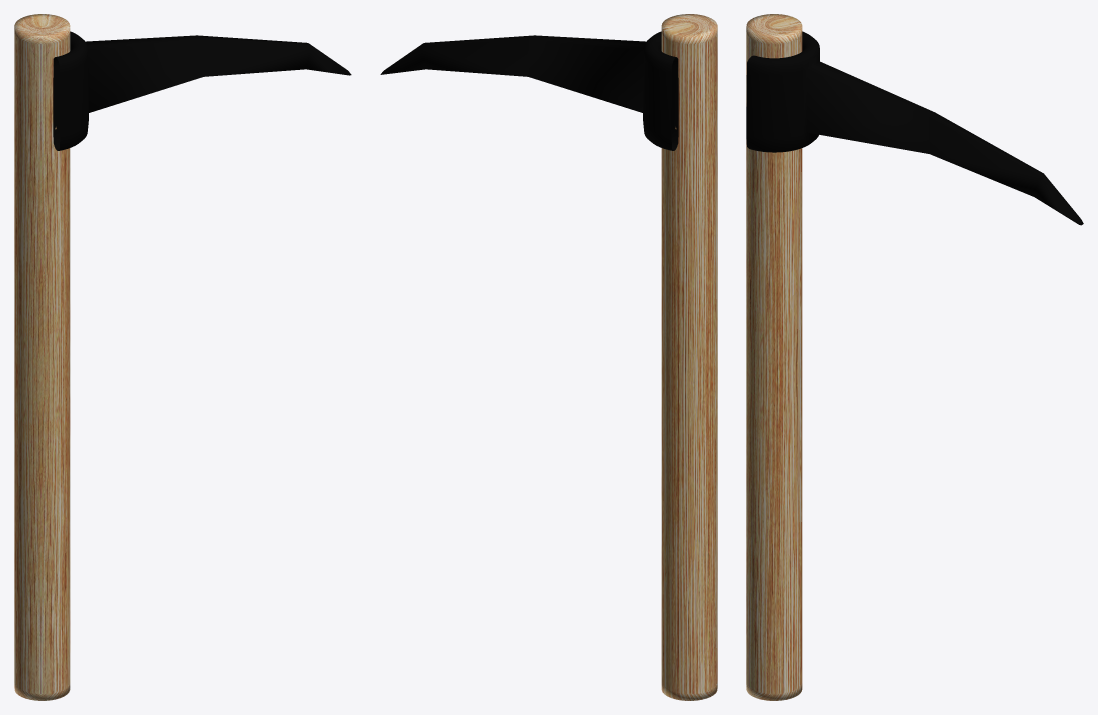
Rendered from picareta.dae.
3 views of the same model, side by side, from view 1: azimuth 30°, elevation 25°; view 2: azimuth 150°, elevation 25°; view 3: azimuth 330°, elevation 25° (orthographic).
Parts seen in each view (by area): view 1: Cylinder, Torus; view 2: Cylinder, Torus; view 3: Cylinder, Torus.
Part boxes in pixels (left/top/right/bottom): Cylinder: left=14, top=14, right=70, bottom=700; Torus: left=53, top=31, right=351, bottom=150; Cylinder: left=661, top=14, right=717, bottom=700; Torus: left=380, top=31, right=678, bottom=150; Cylinder: left=746, top=14, right=802, bottom=700; Torus: left=746, top=31, right=1083, bottom=225.
Size of the model in its own units: 1.33 by 0.3217 by 2.53.
2 materials, 1 textured.
